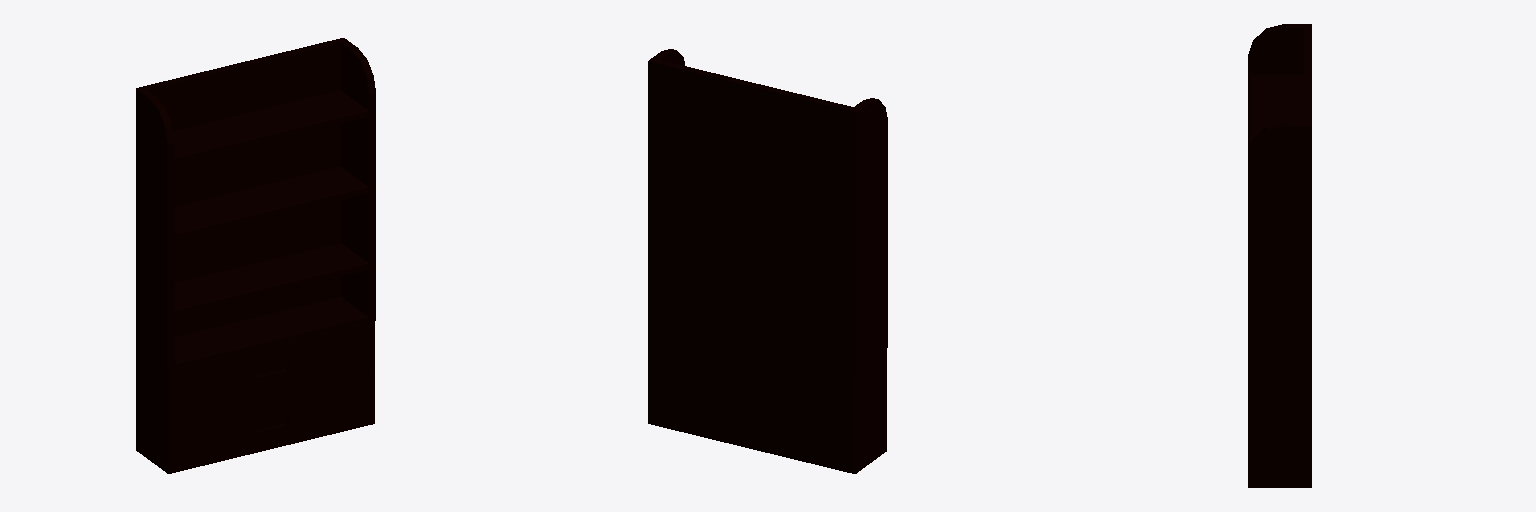
Rendered from SmallBookShelf1.obj.
3 renders of one model, left to right at view 1: azimuth 30°, elevation 25°; view 2: azimuth 150°, elevation 25°; view 3: azimuth 270°, elevation 25°, orthographic.
Visible parts, largest first — view 1: SmallBookShelf1_Cube, Drawer1_SmallBookShelf1_Cube.011, Drawer2_SmallBookShelf1_Cube.012; view 2: SmallBookShelf1_Cube; view 3: SmallBookShelf1_Cube.
Part boxes in pixels (left/top/right/bottom): SmallBookShelf1_Cube: left=136, top=38, right=375, bottom=473; Drawer1_SmallBookShelf1_Cube.011: left=173, top=322, right=370, bottom=414; Drawer2_SmallBookShelf1_Cube.012: left=173, top=375, right=370, bottom=468; SmallBookShelf1_Cube: left=648, top=49, right=887, bottom=473; SmallBookShelf1_Cube: left=1248, top=24, right=1311, bottom=487.
Bounding box in the file's own units: 1.27 × 2.1 × 0.339.